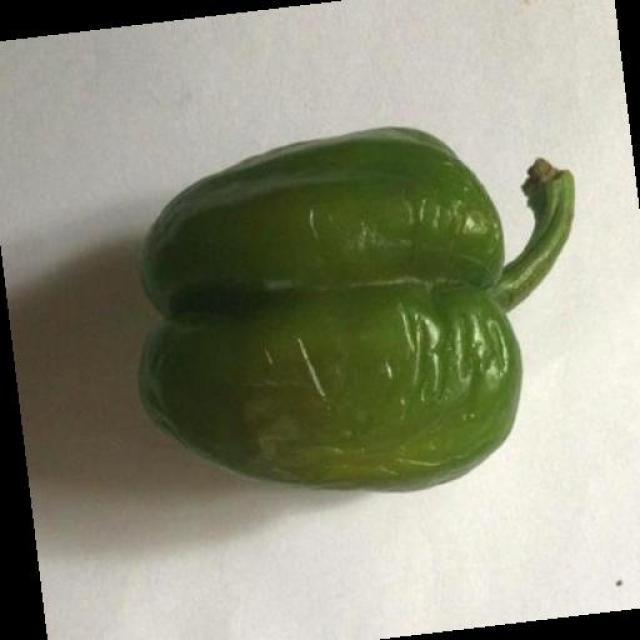Stale_Capsicum: (118, 140, 563, 478)
